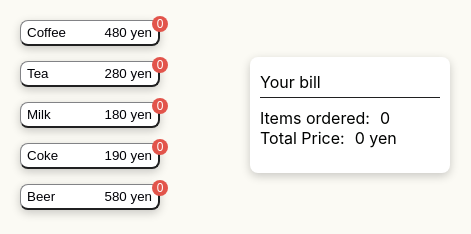
components | CafeOrderingSystem › shows correct billing details
The image size is (471, 234).
Expected: the element with test id "count" shows "0", left=380, top=108, right=390, bottom=128
Expected: the element with test id "price" shows "0 yen", left=260, top=128, right=397, bottom=148
Click the button with test id "coke".
click(90, 156)  # box left=20, top=143, right=160, bottom=169
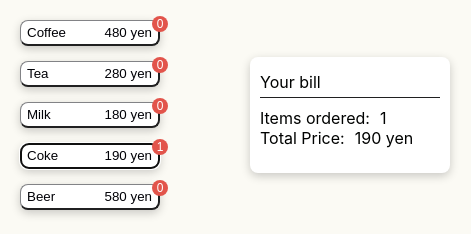
Click the button with test id "coke".
click(90, 156)  # box left=20, top=143, right=160, bottom=169
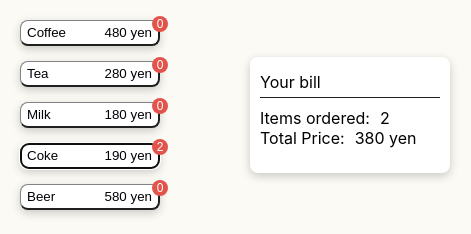
Click the button with test id "coke".
click(90, 156)  # box left=20, top=143, right=160, bottom=169
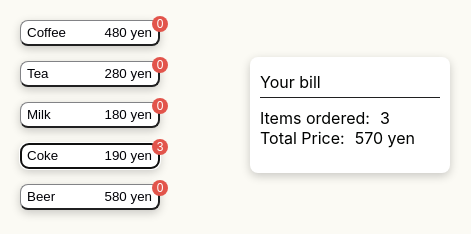
Click the button with test id "beer".
click(90, 197)  # box left=20, top=184, right=160, bottom=210
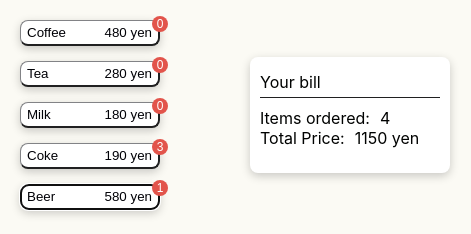
Click the button with test id "beer".
click(90, 197)  # box left=20, top=184, right=160, bottom=210
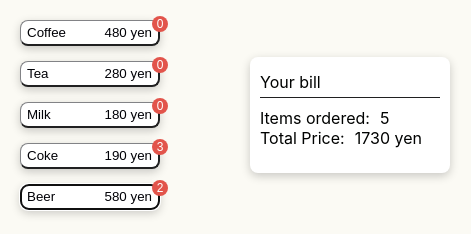
Now the element with test id "count" shows "5", box left=380, top=108, right=389, bottom=128
Now the element with test id "price" shows "1730 yen", box left=260, top=128, right=440, bottom=148
